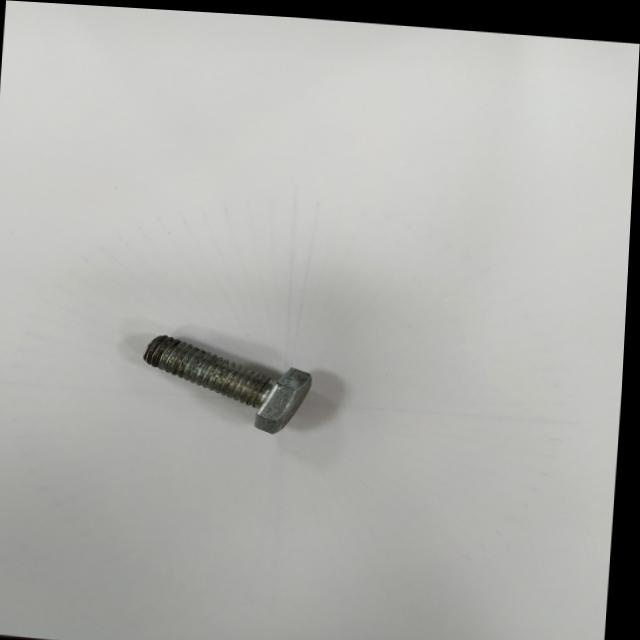Bolt: (147, 332, 315, 429)
